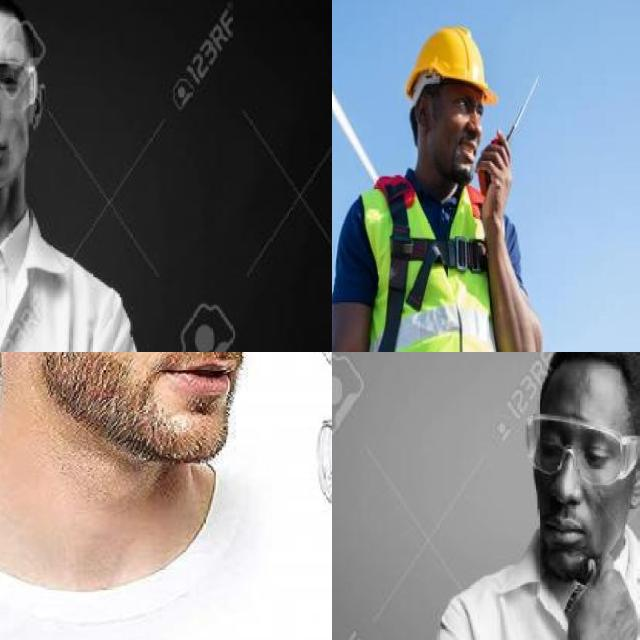Harness: (375, 176, 488, 352)
face_nomask: (530, 425, 620, 557), (123, 352, 272, 419), (0, 55, 28, 170)
glasses: (525, 410, 640, 490), (0, 55, 38, 128)
hand_noglove: (560, 552, 640, 640)
head_nohelmet: (0, 4, 31, 45)
person: (420, 355, 640, 640), (0, 10, 146, 352)
